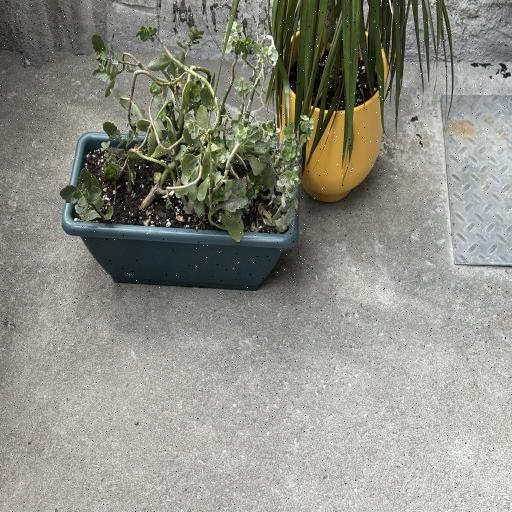Plant Pot: (277, 30, 387, 200)
